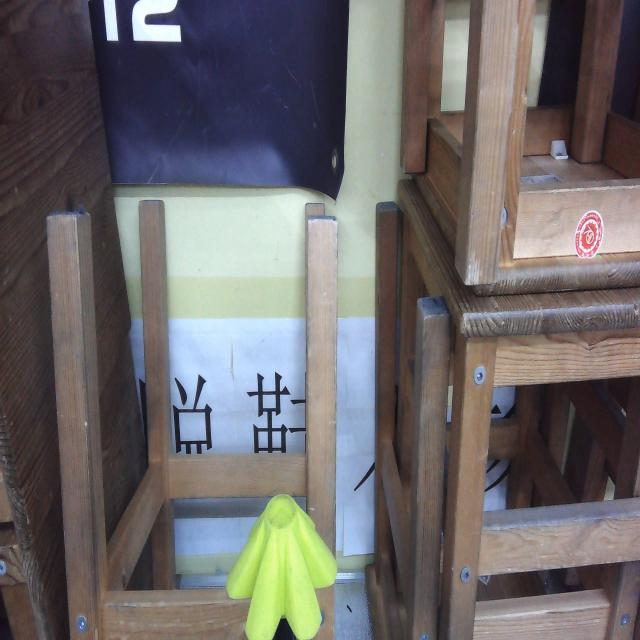Yellow-Stake-Head: (226, 494, 338, 640)
